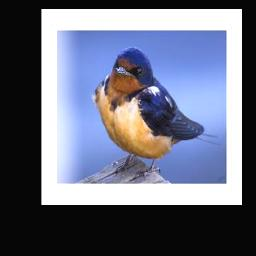Swallow: (90, 44, 222, 181)
